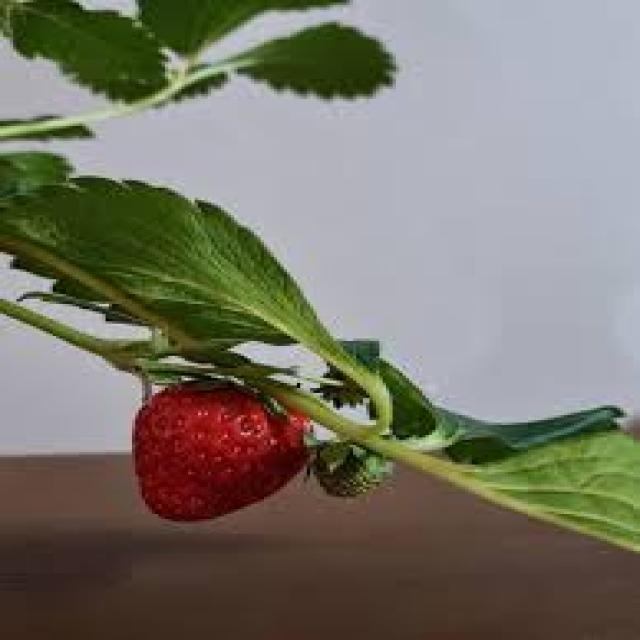mature: (130, 376, 318, 524)
